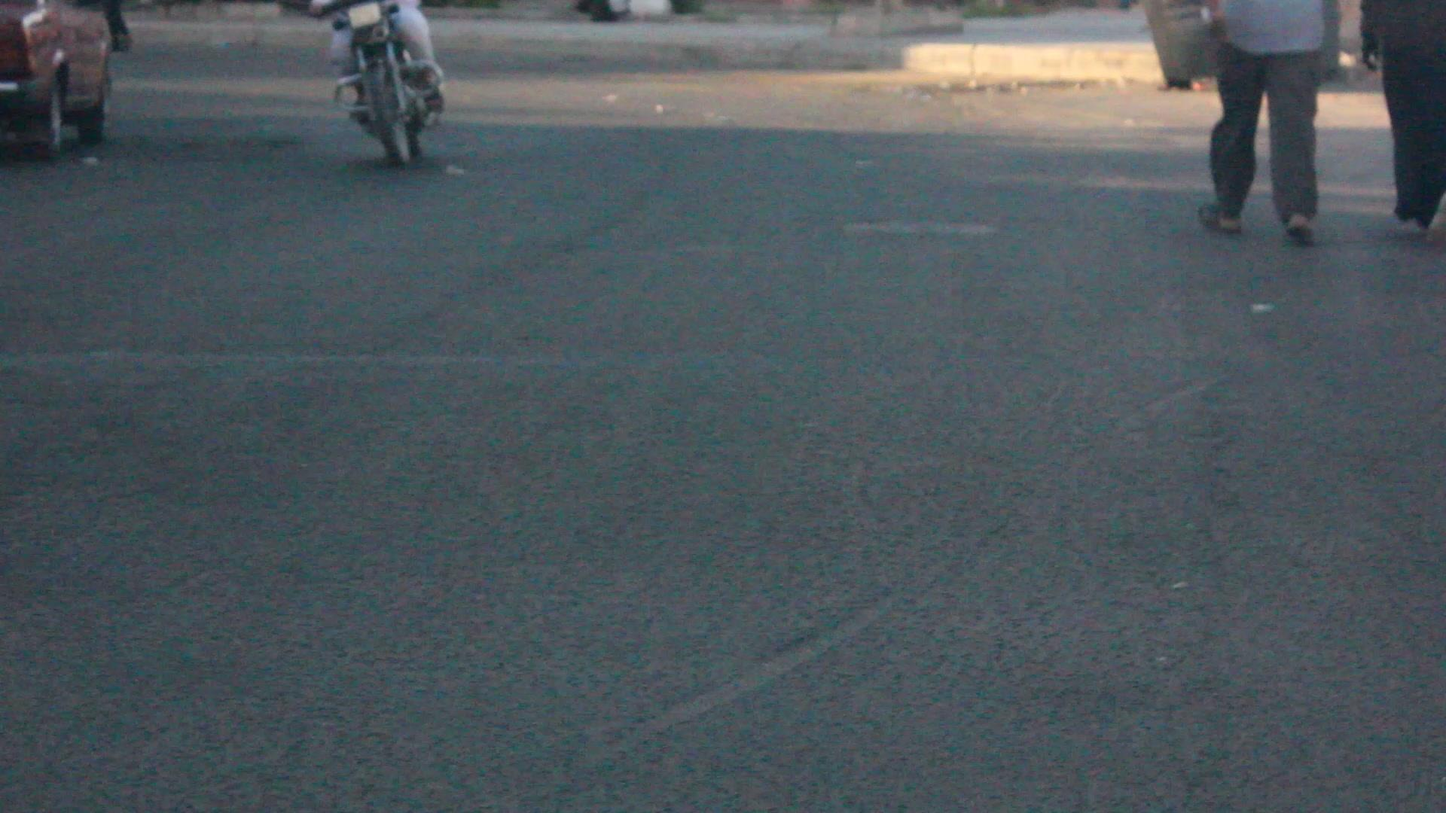Bump: (0, 344, 1446, 557)
